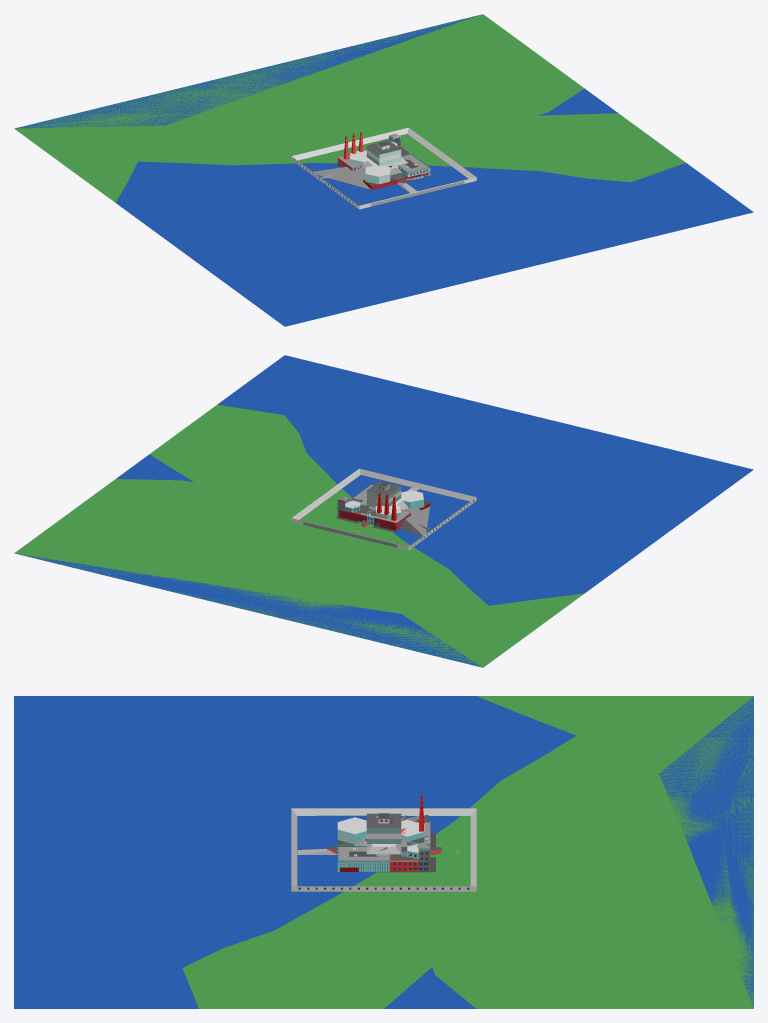
The picture shows the model from 3 angles, top to bottom: view 1: azimuth 30°, elevation 25°; view 2: azimuth 150°, elevation 25°; view 3: azimuth 270°, elevation 25°; orthographic projection. The views are drawn at different scales.
Parts seen in each view (by area): view 1: ku_002_lod0, ku_001_lod0, ku_003_lod0, ku_043_lod0, ku_010_lod0, ku_081_lod0; view 2: ku_002_lod0, ku_001_lod0, ku_003_lod0, ku_043_lod0, ku_010_lod0; view 3: ku_002_lod0, ku_003_lod0, ku_001_lod0, ku_043_lod0, ku_081_lod0, ku_009_lod0, ku_095_lod0, ku_009_lod0_s1v0, ku_084_lod0.
Part boxes in pixels (box(x1,y1,x2,y2)): ku_002_lod0: box(20, 14, 753, 326); ku_001_lod0: box(14, 14, 685, 202); ku_003_lod0: box(22, 14, 617, 154); ku_043_lod0: box(291, 127, 476, 209); ku_010_lod0: box(313, 166, 401, 189); ku_081_lod0: box(339, 135, 430, 177); ku_002_lod0: box(15, 355, 753, 666); ku_001_lod0: box(16, 404, 583, 667); ku_003_lod0: box(14, 449, 479, 666); ku_043_lod0: box(291, 468, 476, 550); ku_010_lod0: box(400, 506, 429, 536); ku_002_lod0: box(14, 696, 753, 1008); ku_003_lod0: box(262, 697, 753, 1008); ku_001_lod0: box(182, 696, 753, 1008); ku_043_lod0: box(291, 808, 476, 891); ku_081_lod0: box(338, 794, 430, 871); ku_009_lod0: box(377, 833, 435, 872); ku_095_lod0: box(366, 813, 401, 848); ku_009_lod0_s1v0: box(337, 817, 406, 856); ku_084_lod0: box(337, 826, 429, 871).
Size of what is drawn, in the model's own units: 4096 by 256 by 4096.
